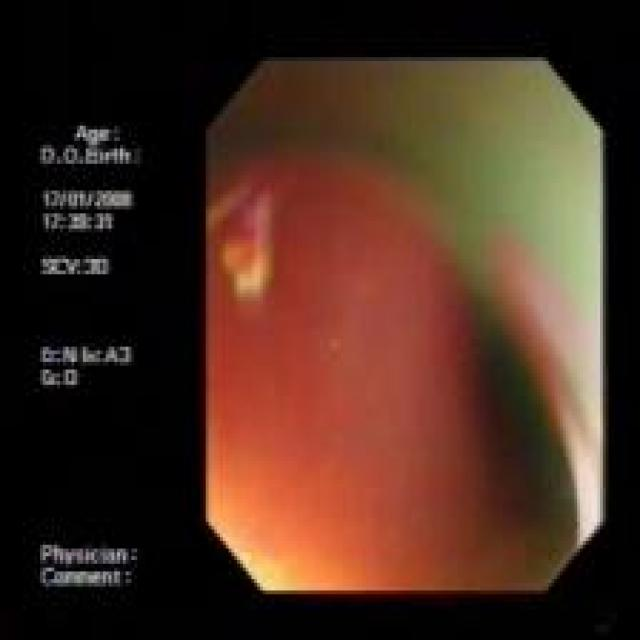color misalignment: (208, 60, 602, 592), (40, 121, 142, 592)
